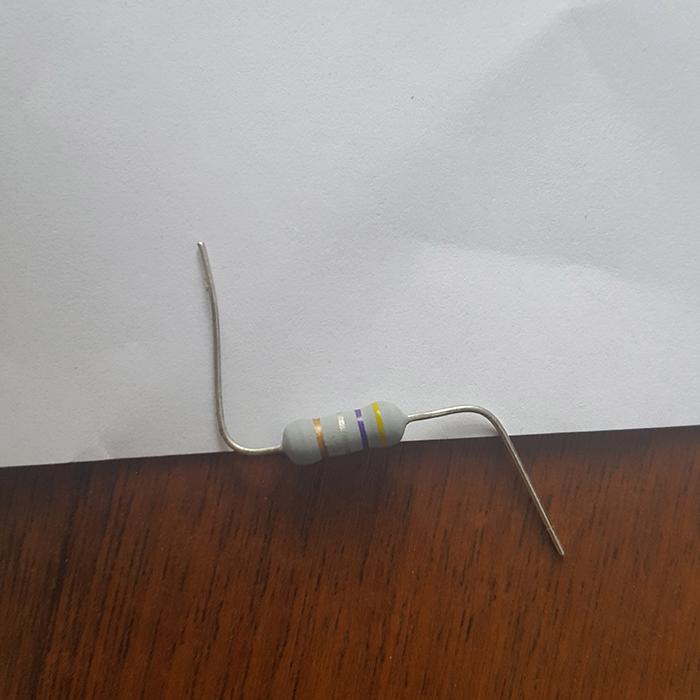resistor: (280, 399, 410, 466)
